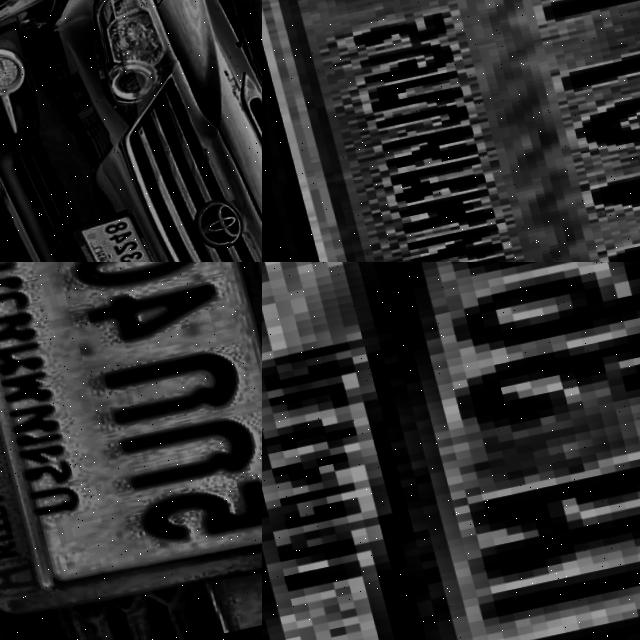license-plate: (262, 262, 640, 640), (262, 0, 640, 262), (0, 262, 262, 640), (62, 208, 169, 262)
